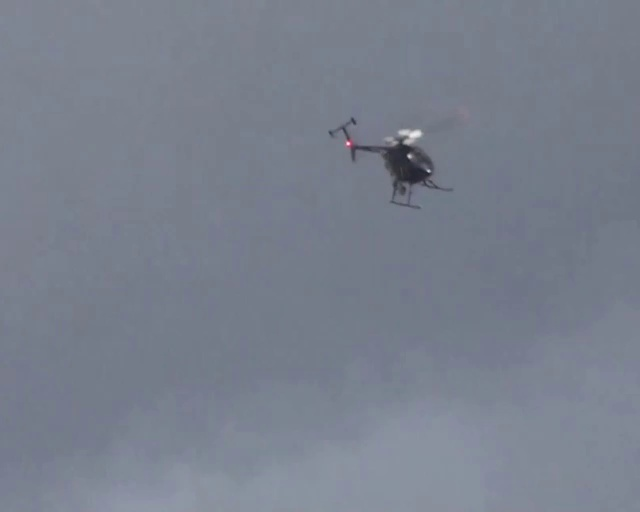HELICOPTER: (327, 112, 458, 210)
